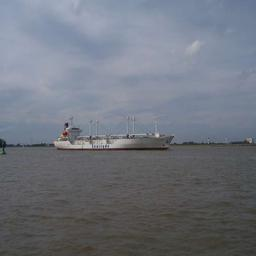Ship: (50, 118, 176, 154)
